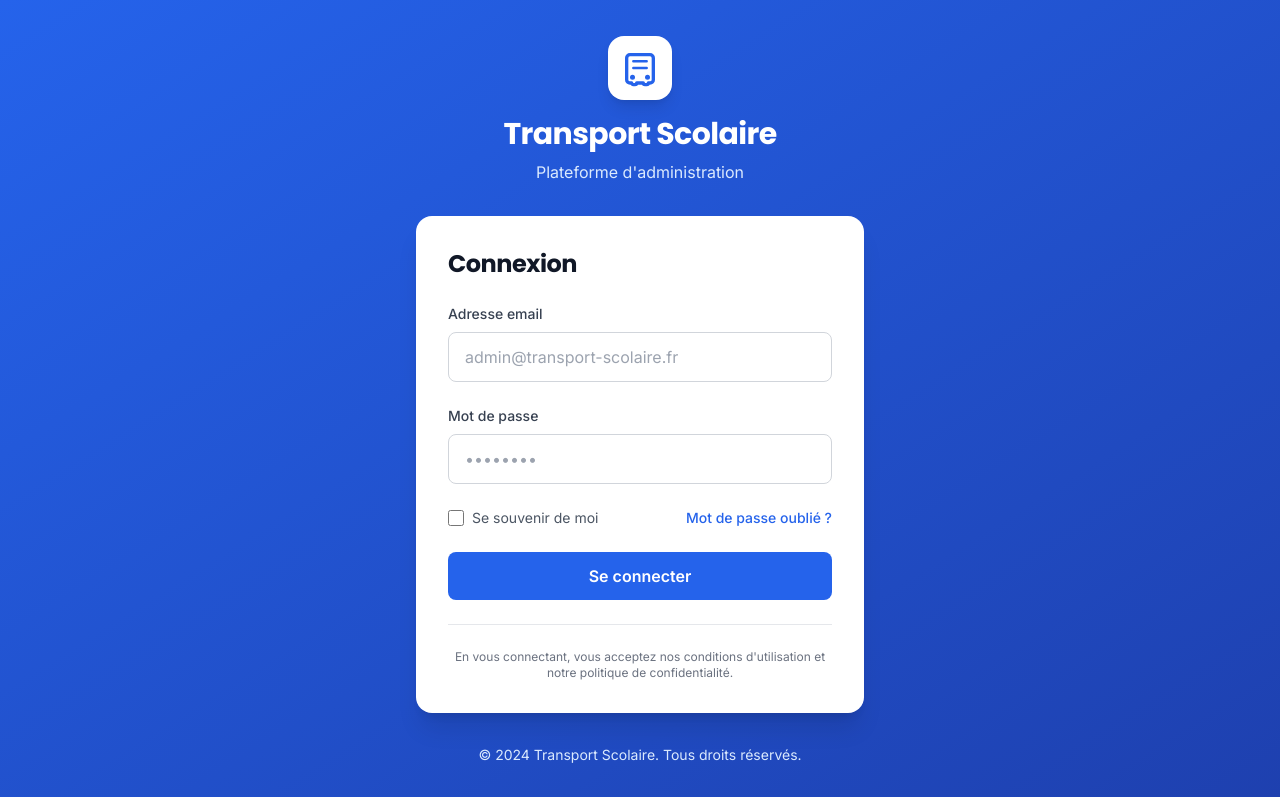
Test: LoginPage › valide la longueur du mot de passe
The width and height of the screenshot is (1280, 797).
Type "test@example.com" into the field labelled "Adresse email" at (640, 356), box left=448, top=332, right=832, bottom=382
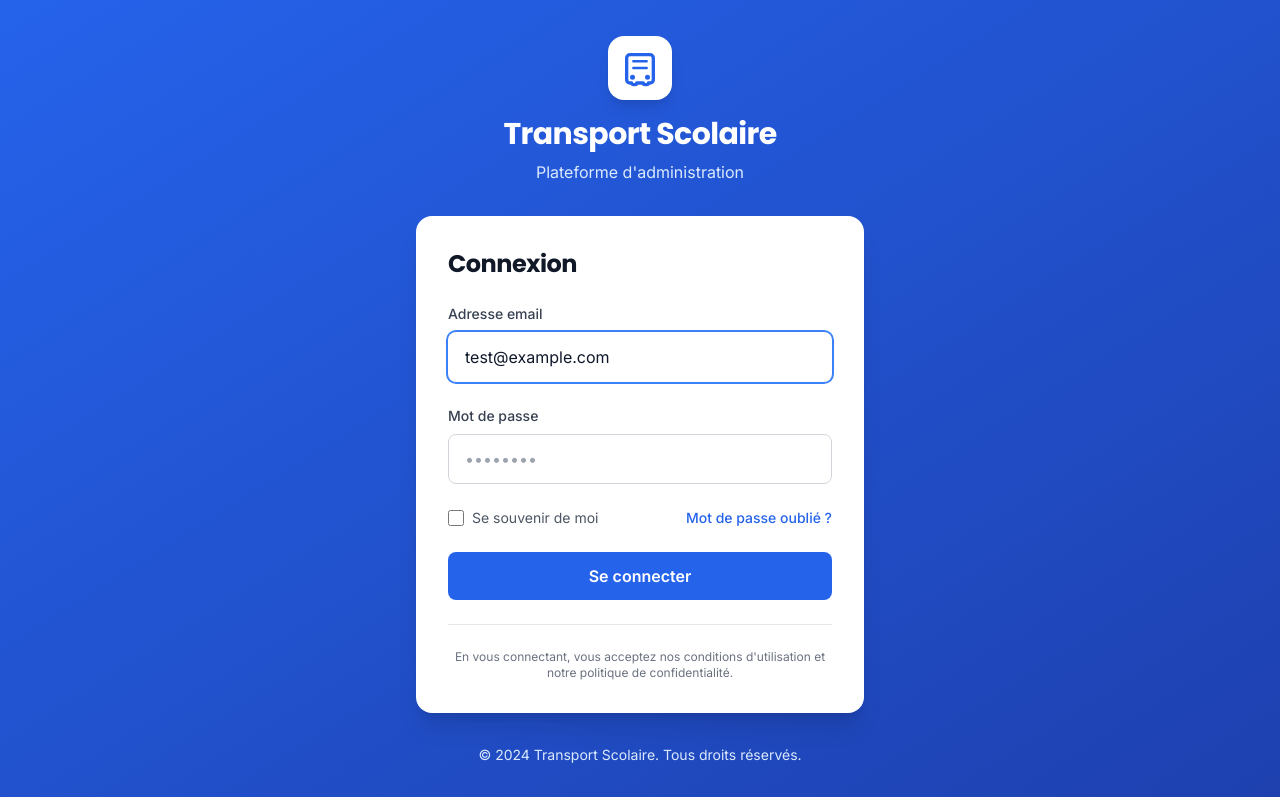
Type "12345" into the password field labelled "Mot de passe" at (640, 458), box left=448, top=434, right=832, bottom=484
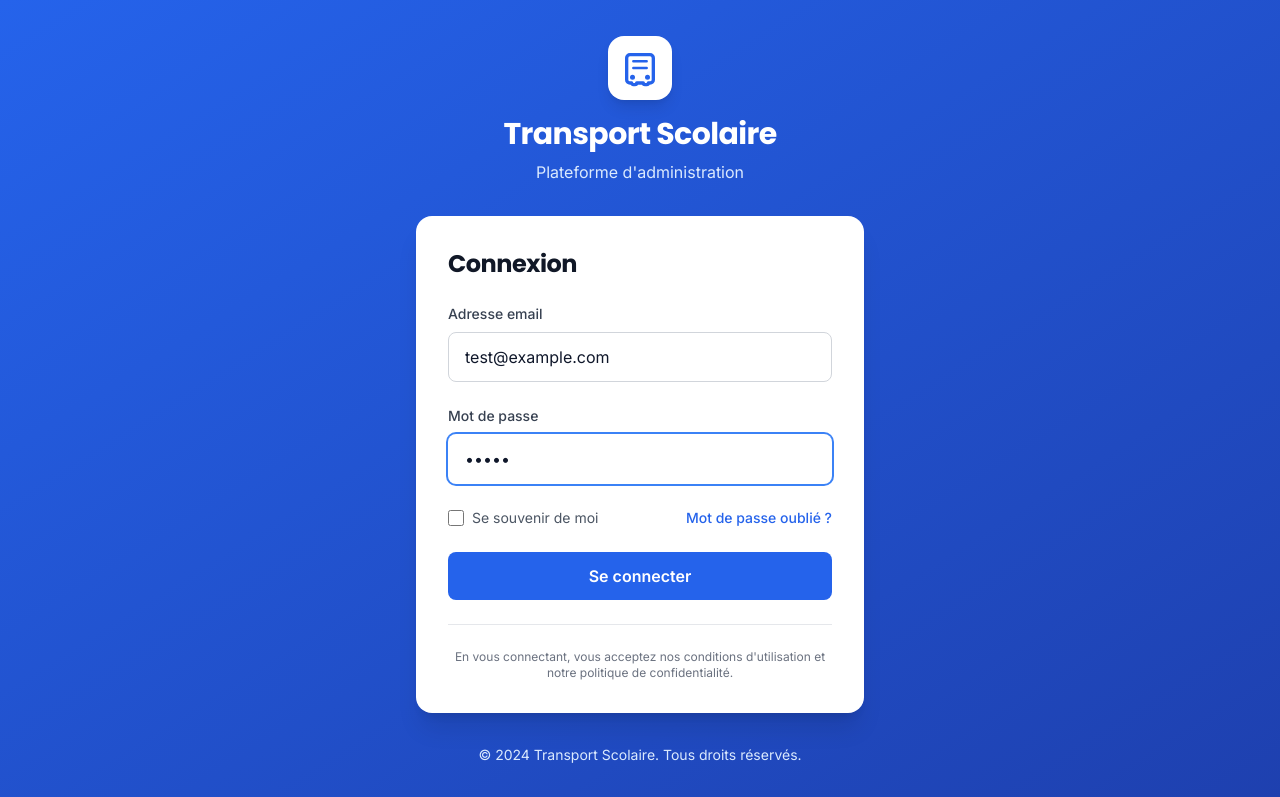
Click the button "Se connecter" at (640, 576), box left=448, top=552, right=832, bottom=600
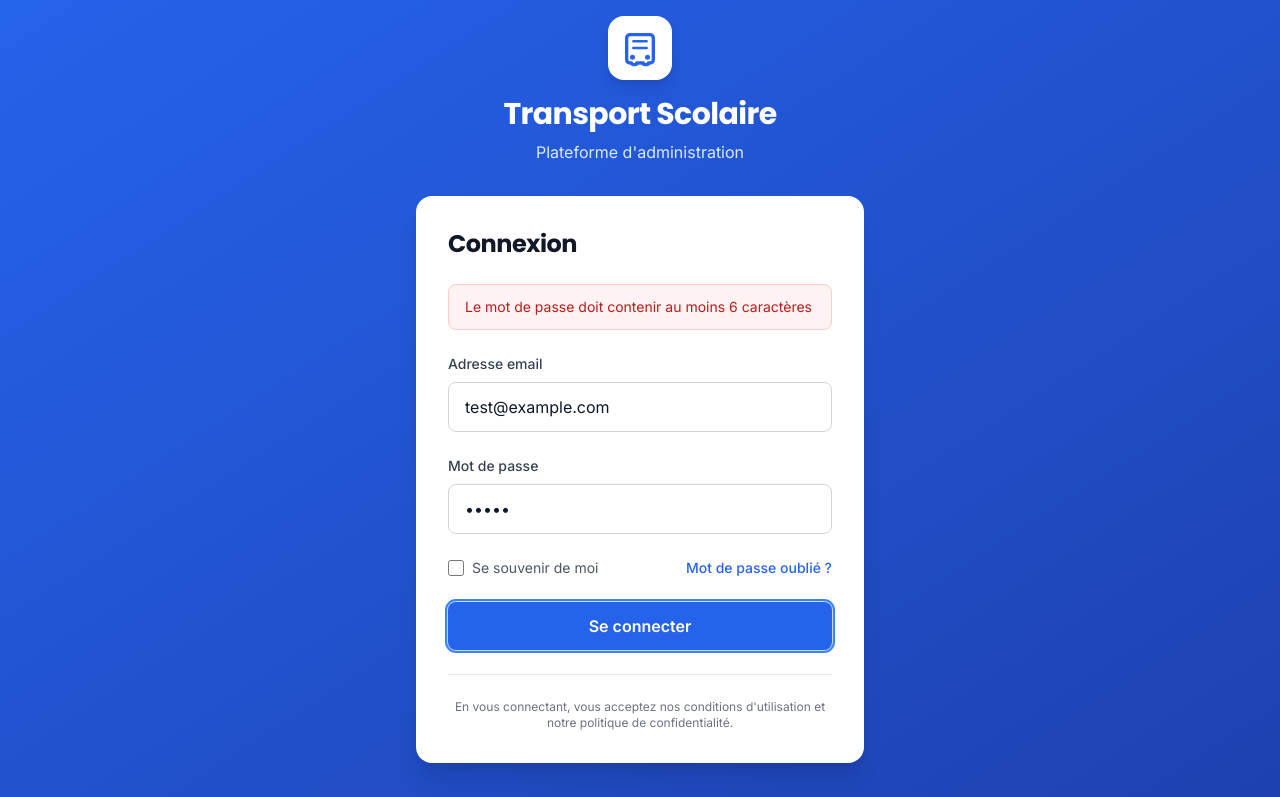
Check: the text "Le mot de passe doit contenir au moins 6 caractères" is shown, box left=465, top=297, right=815, bottom=317
